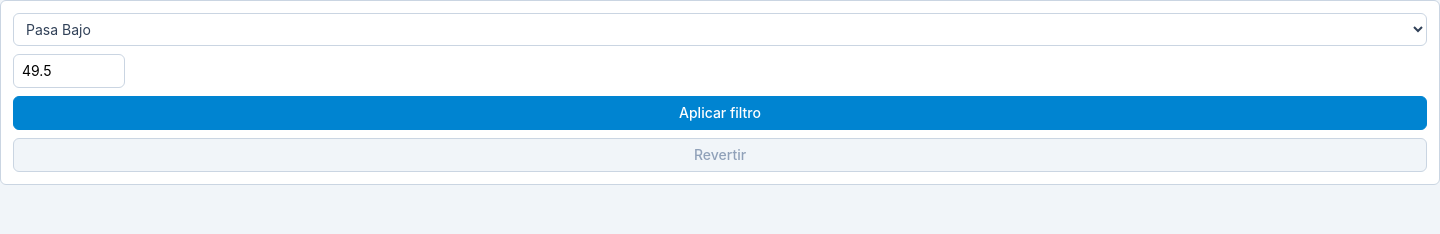
it: FilterPanel › AC-11: ingresar una frecuencia que excede Nyquist deshabilita "Aplicar filtro" y muestra un mensaje
Select "Pasa Bajo" in the dropdown named "Tipo de filtro" at (720, 30), box [13, 13, 1427, 46]
Replace the text in the number field named "Frecuencia de corte (Hz)" with "200" at (69, 71), box [13, 54, 125, 88]
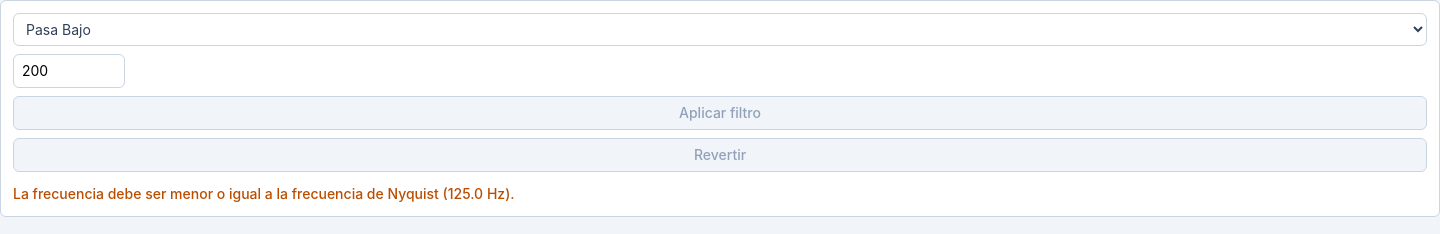
Result: the button labelled "Aplicar filtro" is disabled at [13, 96, 1427, 130]
Result: the text "Nyquist" is shown at [13, 185, 514, 202]
